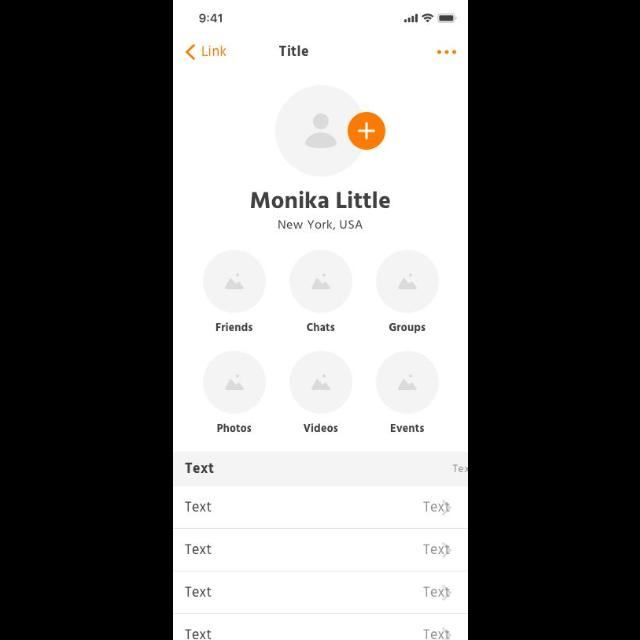icon: (276, 86, 360, 178), (347, 112, 385, 150), (186, 44, 196, 60), (436, 51, 456, 55)
image: (288, 250, 352, 312), (202, 352, 266, 414), (290, 351, 352, 414), (376, 250, 438, 312), (203, 250, 265, 312), (376, 350, 438, 412)
text: (252, 191, 391, 209), (278, 220, 364, 230), (388, 324, 426, 334), (215, 322, 253, 332), (216, 423, 252, 433), (422, 586, 450, 598), (184, 586, 212, 598), (184, 628, 212, 640), (422, 628, 450, 640), (201, 46, 227, 58), (422, 501, 450, 512), (304, 423, 338, 432), (279, 46, 309, 56), (306, 322, 336, 332), (184, 463, 214, 473), (184, 502, 212, 512), (184, 544, 212, 554), (422, 544, 450, 554), (390, 424, 424, 432)
uppertaskbar: (198, 13, 458, 24)
